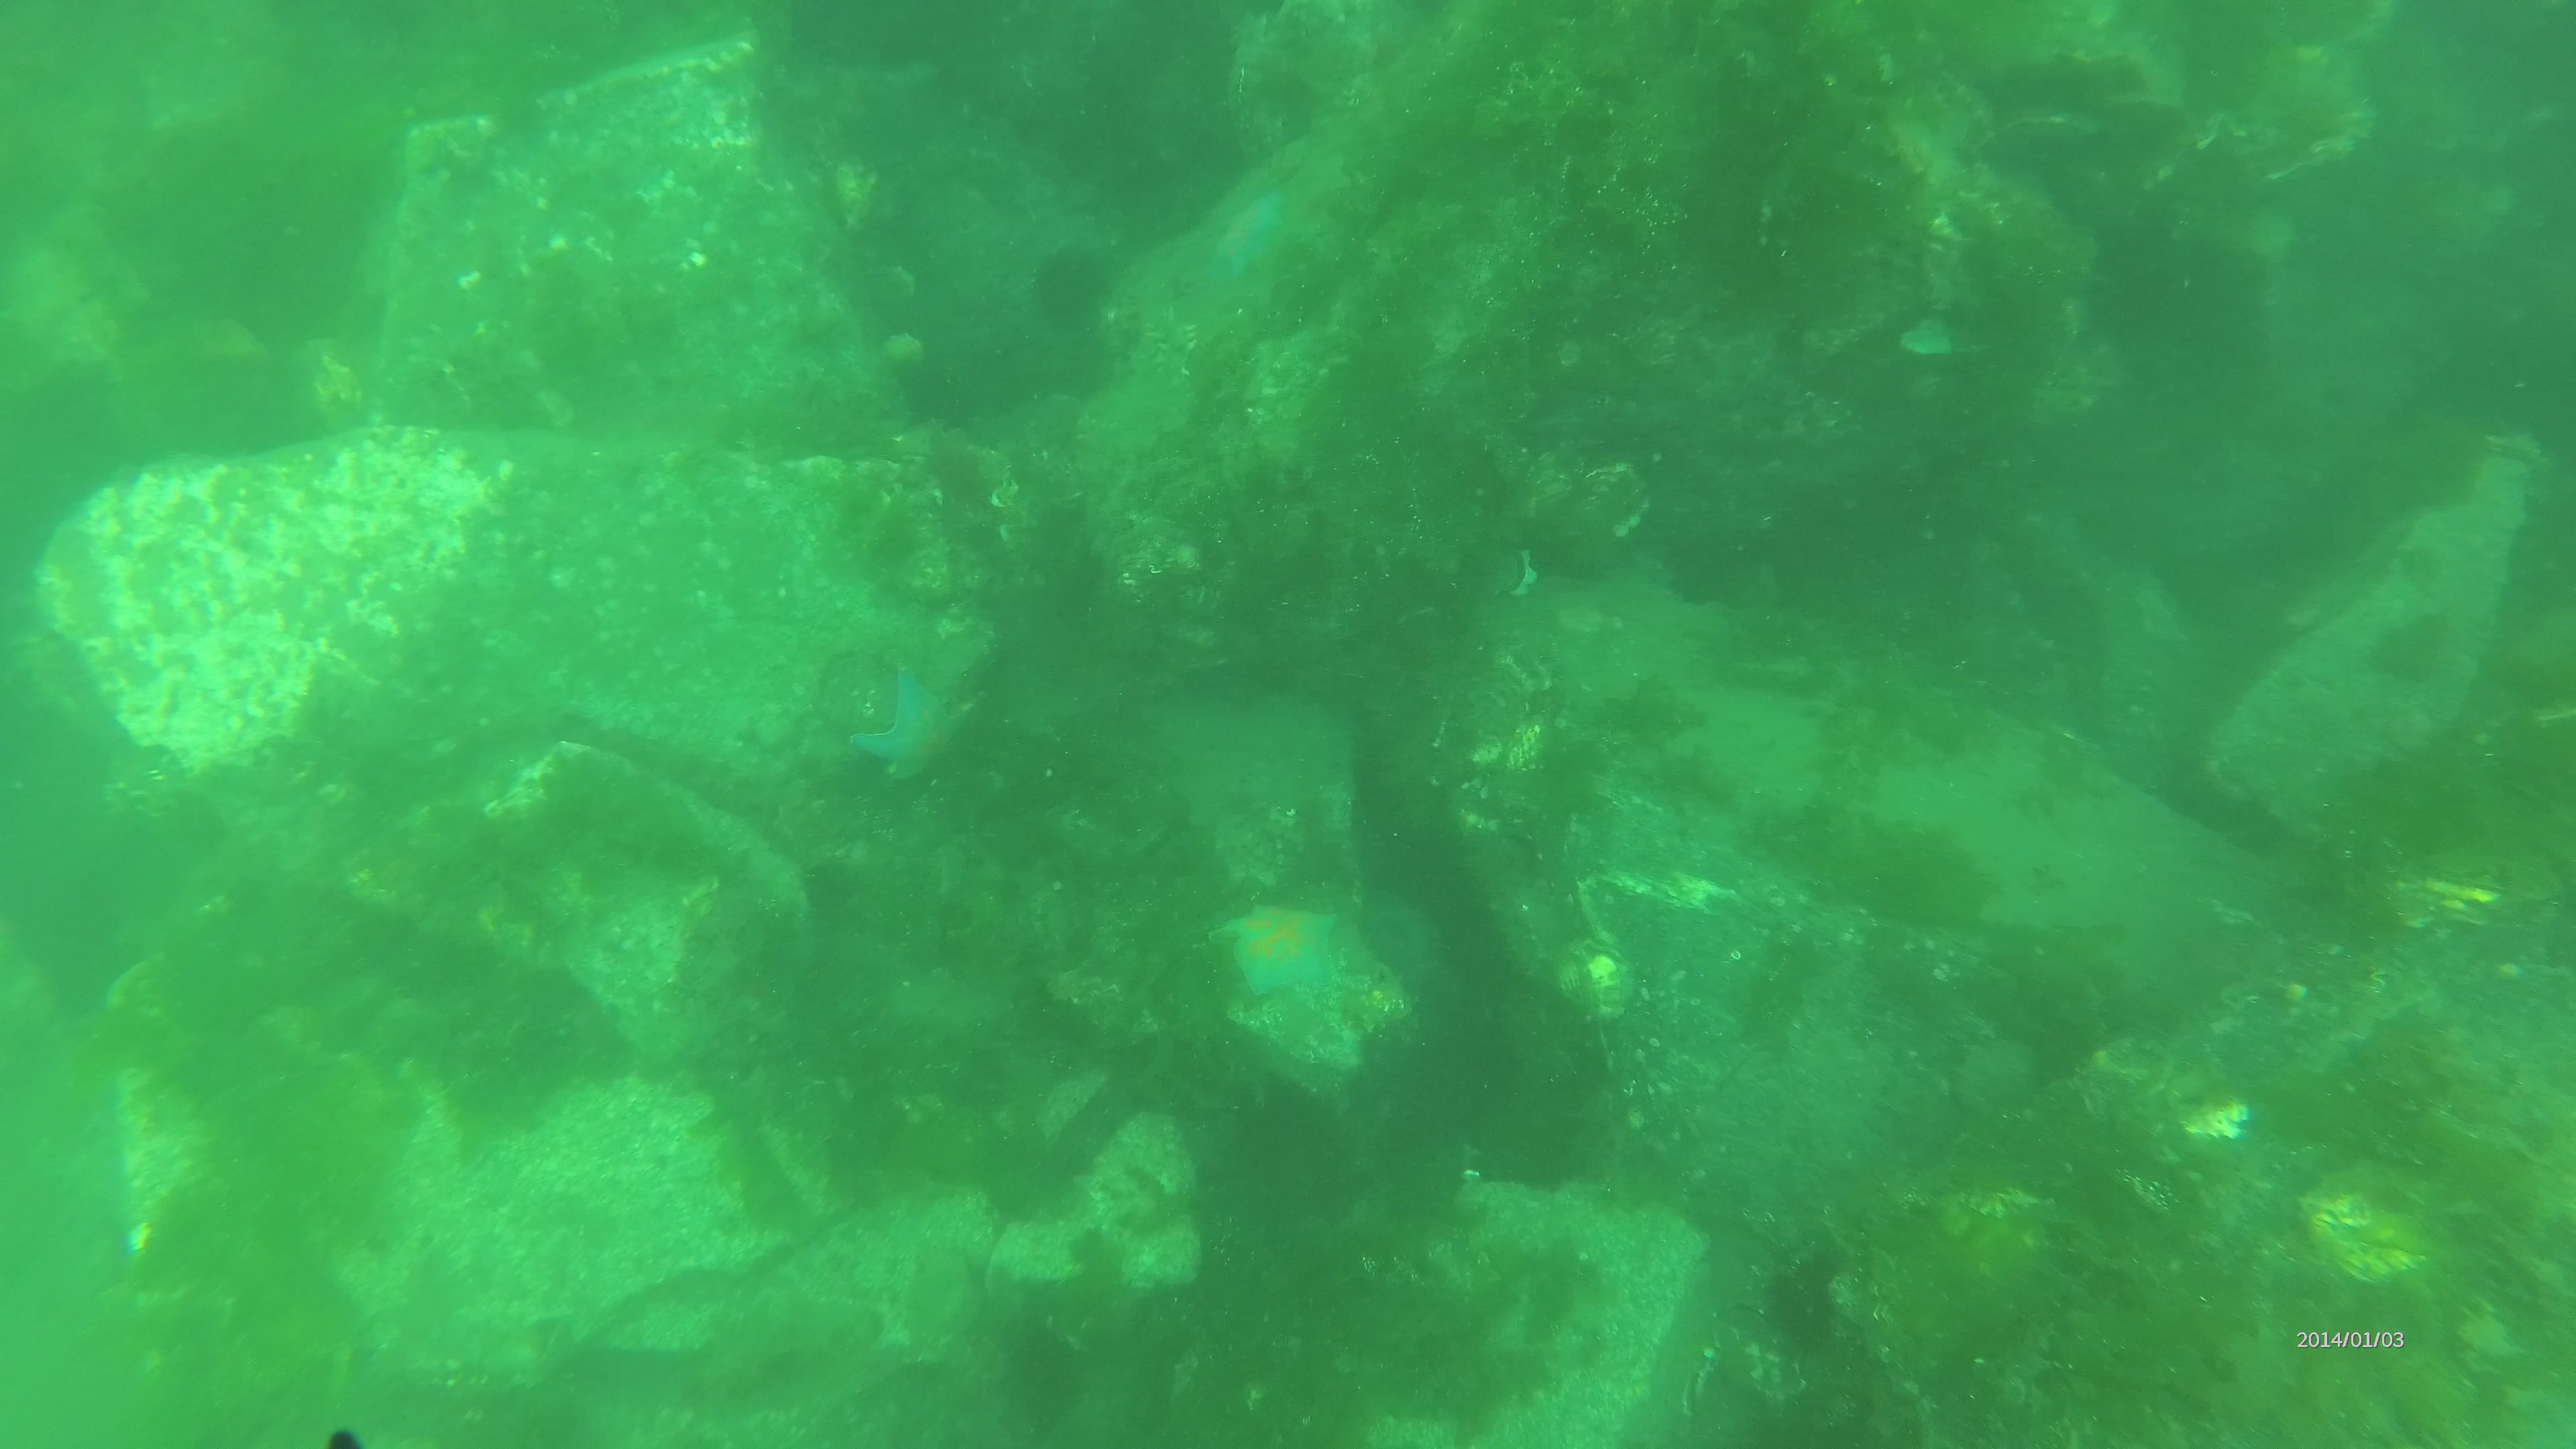echinus: (1764, 1253, 1849, 1352), (1024, 241, 1109, 331)
starfish: (847, 665, 978, 786), (1208, 902, 1345, 1001), (1212, 188, 1288, 283)
